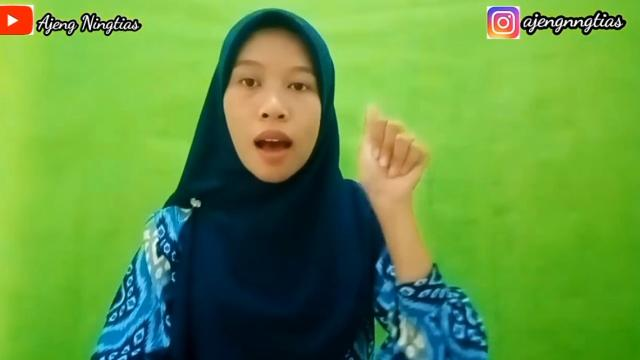A: (356, 102, 430, 208)
